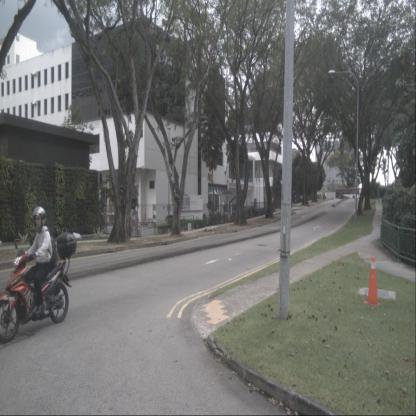cone: (363, 256, 383, 308)
